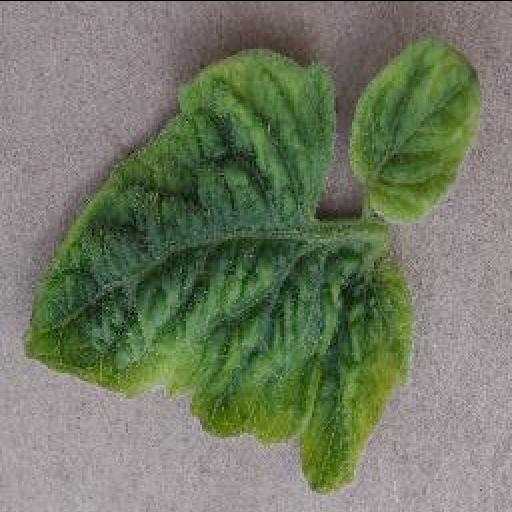disease_tomato: (20, 46, 416, 490), (347, 37, 481, 227)
